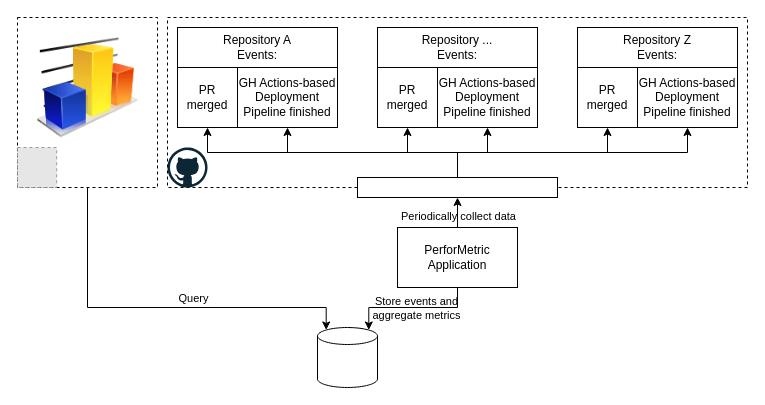
Image size: 765x405. Some labels were removed from this diagram. Grey dashed boxes stand in for pictures. Each missing label, with the box of its shape:
Database: (316, 326, 378, 388)
GitHub API: (356, 176, 558, 198)
